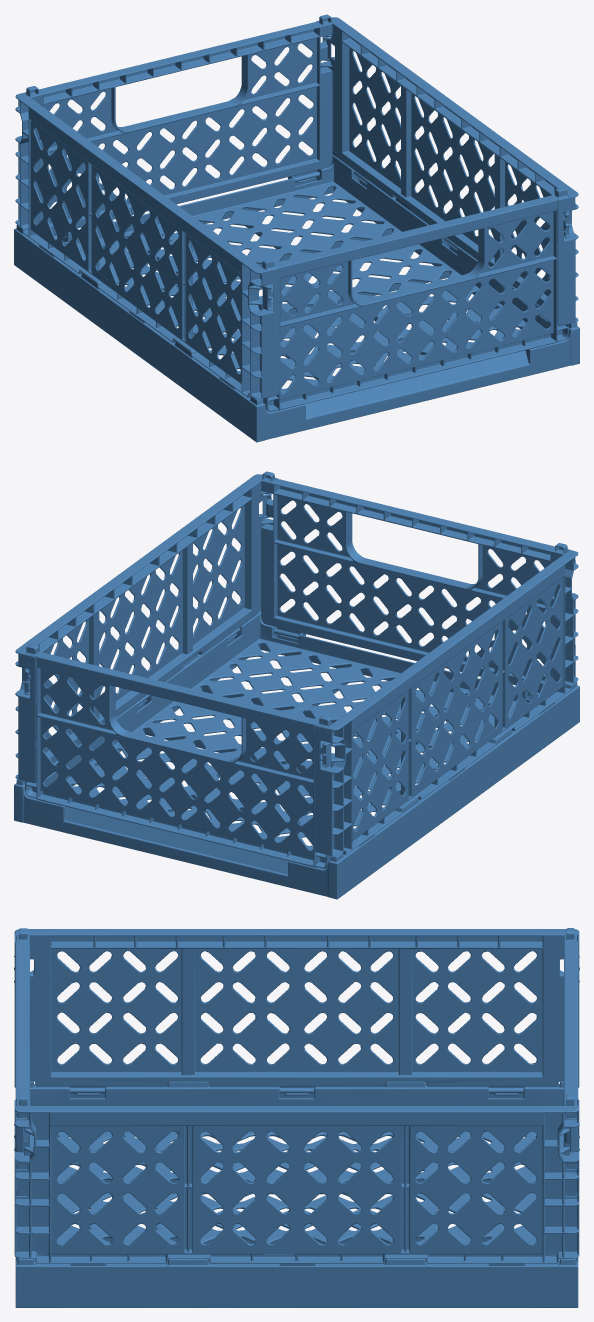
Rendered from storage_basket_plastic_a01.glb.
3 renders of one model, top to bottom at view 1: azimuth 30°, elevation 25°; view 2: azimuth 150°, elevation 25°; view 3: azimuth 270°, elevation 25°, orthographic. The views are drawn at different scales.
Size of the model in its own units: 0.254 by 0.1321 by 0.332.
